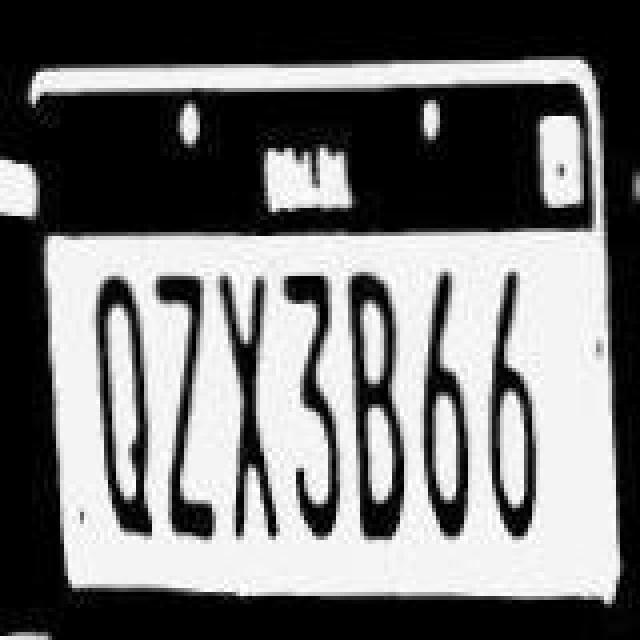3: (280, 264, 340, 544)
6: (418, 268, 474, 544), (486, 272, 542, 548)
B: (346, 270, 410, 546)
Q: (82, 268, 154, 544)
X: (214, 272, 278, 548)
Z: (160, 264, 220, 548)
